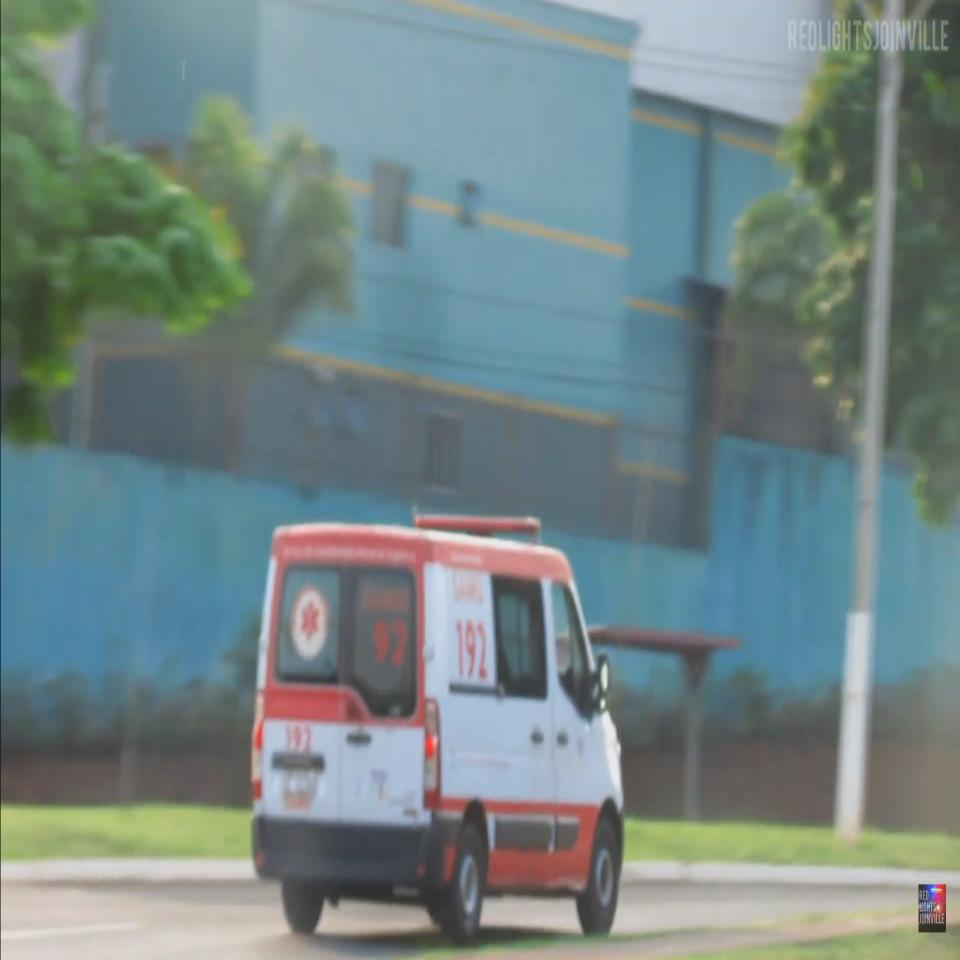bombeiro: (249, 505, 628, 946)
